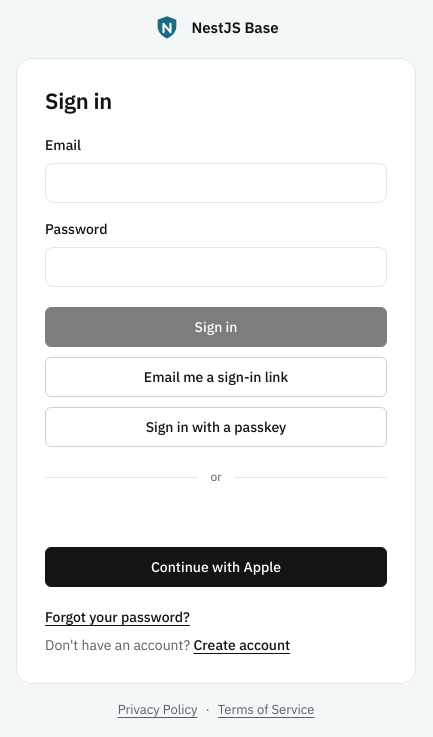
Test: LoginPage — passkey › falha do navegador mostra o motivo e o detalhe técnico
The width and height of the screenshot is (433, 737).
Click the button "Sign in with a passkey" at (216, 427), box [45,407,387,447]
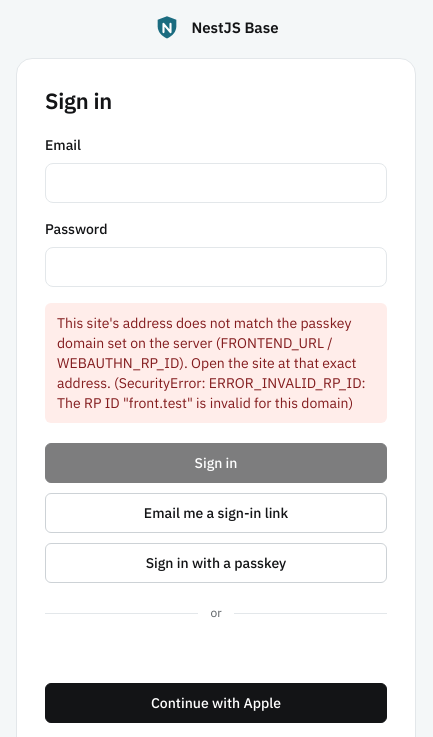
Result: the message shows "This site's address does not match the passkey domain" at [57,314,366,412]
Result: the message shows "SecurityError: ERROR_INVALID_RP_ID" at [57,314,366,412]
